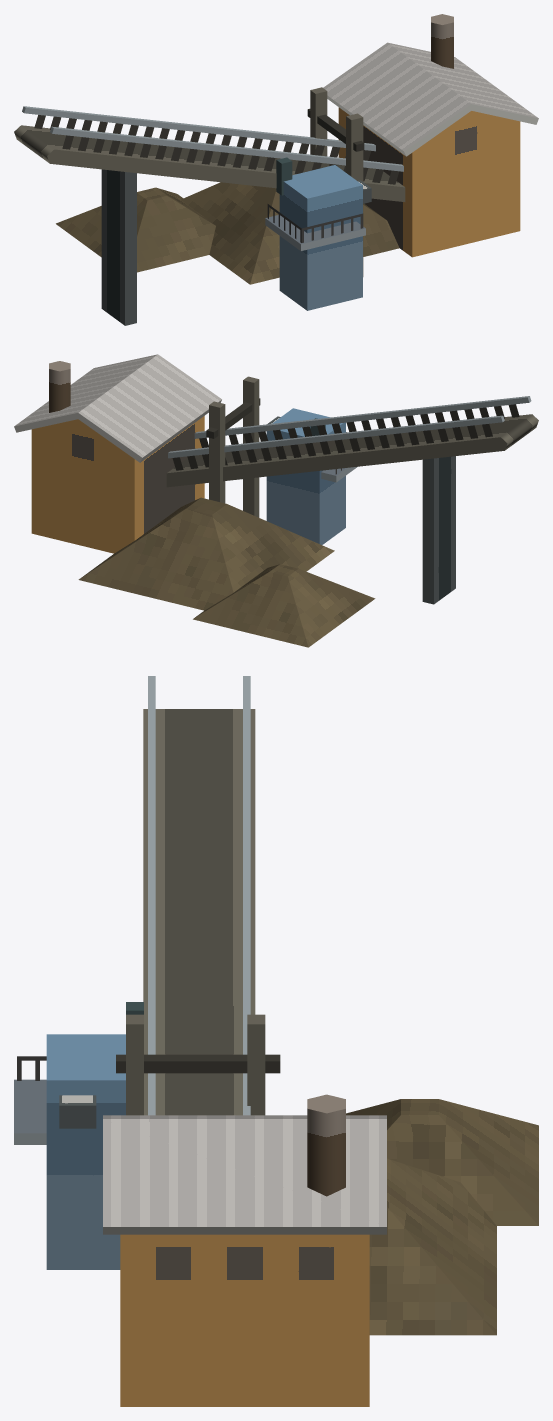
Rendered from Universal_Building_Mine_L2_02_Mod.fbx.
The picture shows the model from 3 angles, top to bottom: view 1: azimuth 30°, elevation 25°; view 2: azimuth 150°, elevation 25°; view 3: azimuth 270°, elevation 25°; orthographic projection. The views are drawn at different scales.
Visible parts, largest first — view 1: Universal_Building_Mine_L2_02_Mod; view 2: Universal_Building_Mine_L2_02_Mod; view 3: Universal_Building_Mine_L2_02_Mod.
Part boxes in pixels (box(x1,y1,x2,y2)): Universal_Building_Mine_L2_02_Mod: box(14, 14, 538, 325); Universal_Building_Mine_L2_02_Mod: box(14, 354, 538, 647); Universal_Building_Mine_L2_02_Mod: box(14, 676, 538, 1406).
Bounding box in the file's own units: 1217 × 529 × 682.
